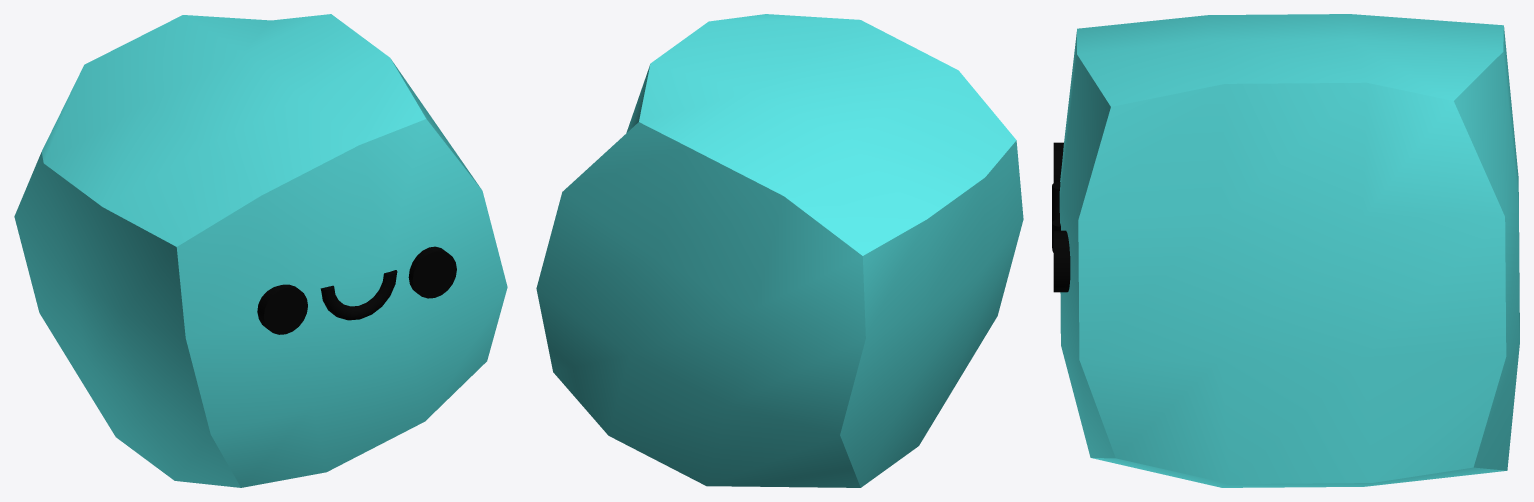
File: BLUE.fbx
3 renders of one model, left to right at view 1: azimuth 30°, elevation 25°; view 2: azimuth 150°, elevation 25°; view 3: azimuth 270°, elevation 25°, orthographic. The views are drawn at different scales.
Visible parts, largest first — view 1: polySurface272; view 2: polySurface272; view 3: polySurface272.
Part boxes in pixels (x1,y1,x2,y2): polySurface272: (14, 14, 507, 487); polySurface272: (536, 14, 1023, 487); polySurface272: (1052, 14, 1519, 487).
Size of the model in its own units: 4.93 by 4.85 by 4.54.
